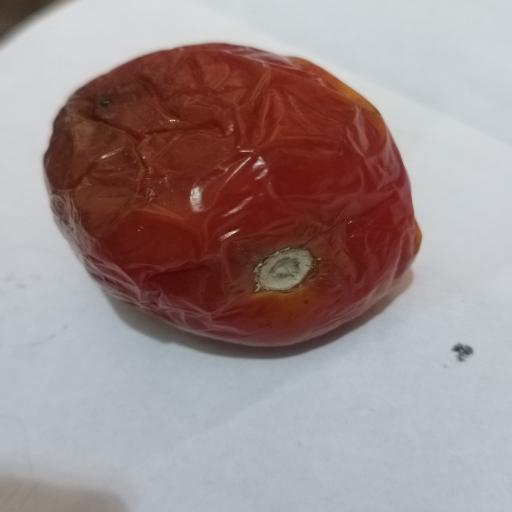spoiled: (45, 44, 421, 346)
